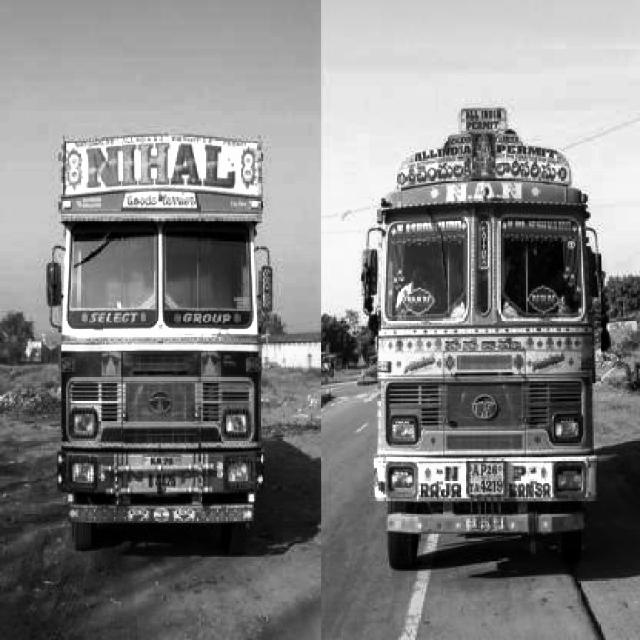HCV: (354, 164, 598, 560), (64, 108, 268, 534)
